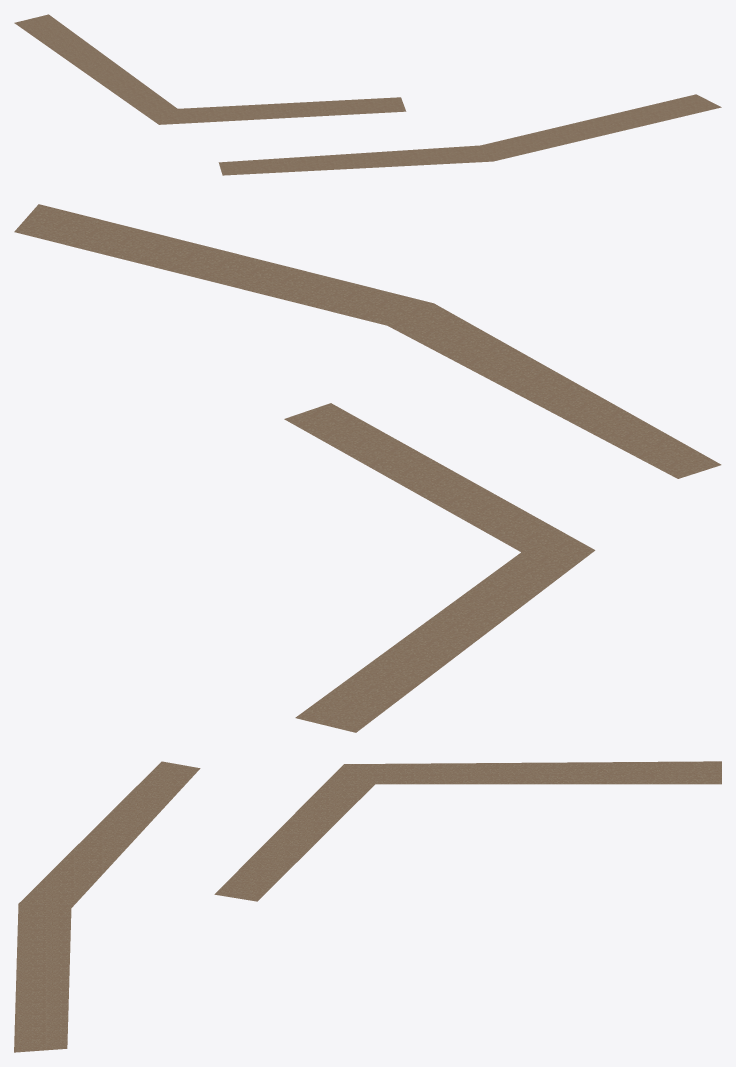
Rendered from kd_stage_135fe0_5_9_bounded.glb.
3 renders of one model, top to bottom at view 1: azimuth 30°, elevation 25°; view 2: azimuth 150°, elevation 25°; view 3: azimuth 270°, elevation 25°, orthographic. The views are drawn at different scales.
Visible parts, largest first — view 1: kd_stage_135fe0_5_9_bounded; view 2: kd_stage_135fe0_5_9_bounded; view 3: kd_stage_135fe0_5_9_bounded.
Part boxes in pixels (<box>): kd_stage_135fe0_5_9_bounded: <box>14,14,721,175</box>; kd_stage_135fe0_5_9_bounded: <box>14,204,721,732</box>; kd_stage_135fe0_5_9_bounded: <box>14,761,721,1052</box>.
Size of the model in its own units: 9.96 by 0 by 10.23.
1 material, 1 textured.
